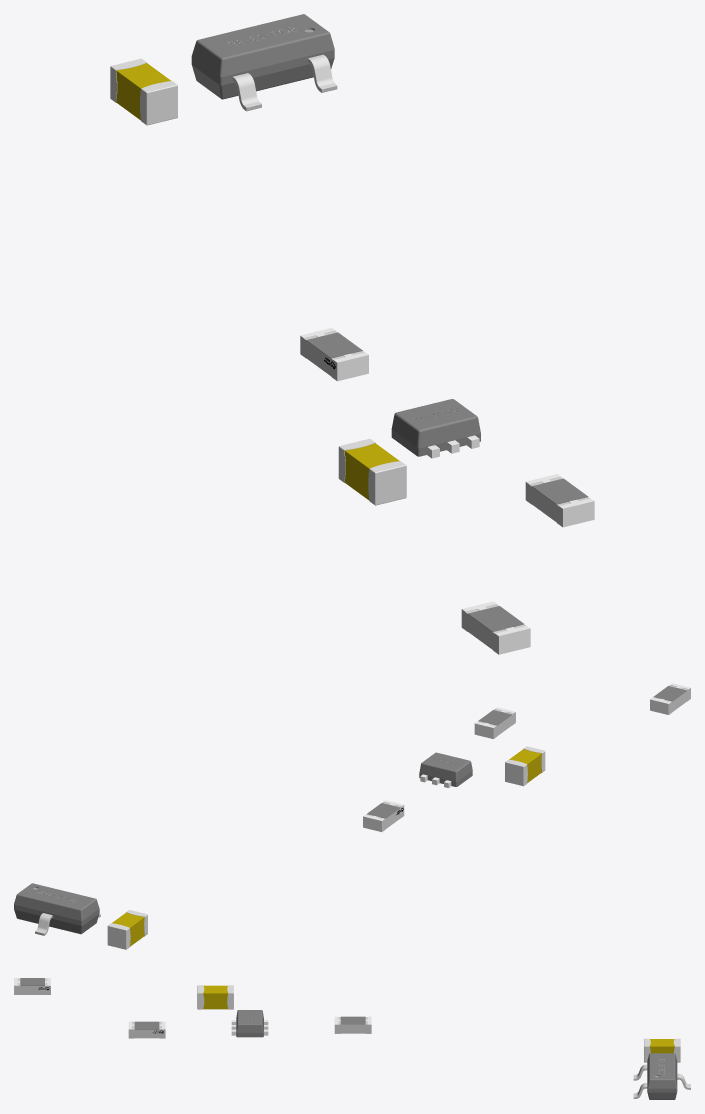
File: r8-parts-6.glb
3 renders of one model, top to bottom at view 1: azimuth 30°, elevation 25°; view 2: azimuth 150°, elevation 25°; view 3: azimuth 270°, elevation 25°, orthographic. The views are drawn at different scales.
Visible parts, largest first — view 1: U4, U5, C7, C6, R11, R12, R10; view 2: U4, U5, C6, C7, R10, R11, R12; view 3: U4, U5, C7, R11, R10, C6, R12.
Part boxes in pixels (bbox=[...]): U4: bbox=[191, 14, 337, 111]; U5: bbox=[391, 399, 480, 458]; C7: bbox=[338, 438, 406, 505]; C6: bbox=[110, 58, 177, 125]; R11: bbox=[525, 474, 594, 527]; R12: bbox=[461, 601, 530, 654]; R10: bbox=[300, 328, 368, 381]; U4: bbox=[14, 883, 100, 935]; U5: bbox=[419, 752, 472, 788]; C6: bbox=[107, 910, 147, 949]; C7: bbox=[505, 746, 545, 786]; R10: bbox=[363, 800, 404, 831]; R11: bbox=[474, 707, 515, 738]; R12: bbox=[650, 683, 690, 714]; U4: bbox=[633, 1053, 690, 1099]; U5: bbox=[231, 1010, 268, 1037]; C7: bbox=[197, 985, 233, 1009]; R11: bbox=[128, 1021, 165, 1038]; R10: bbox=[334, 1016, 371, 1033]; C6: bbox=[644, 1038, 680, 1062]; R12: bbox=[14, 978, 50, 994].
Size of the model in its own units: 11.86 by 1.05 by 29.56.
